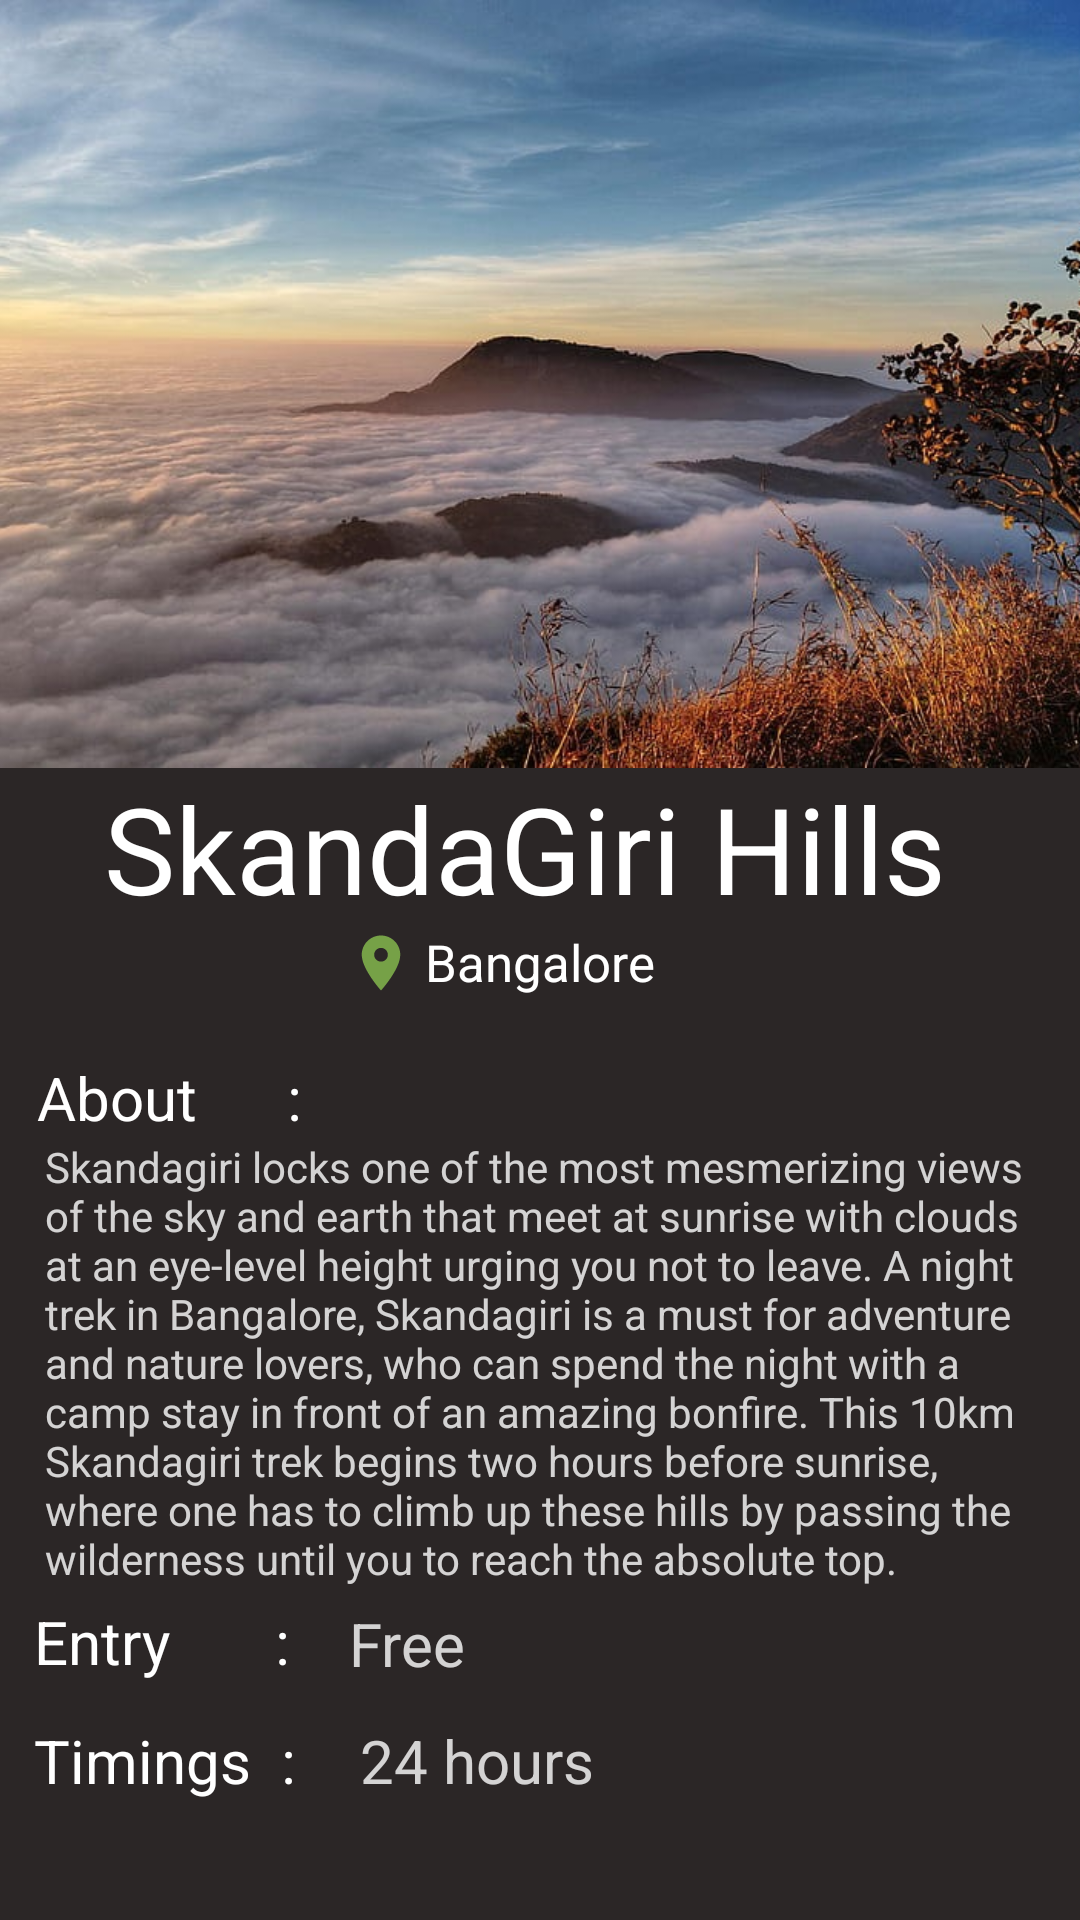

Locate icon controls on the screen. Image size 1080px×1920px, boxes as (x1, y1, x2, y2).
location: (361, 935, 401, 990)
